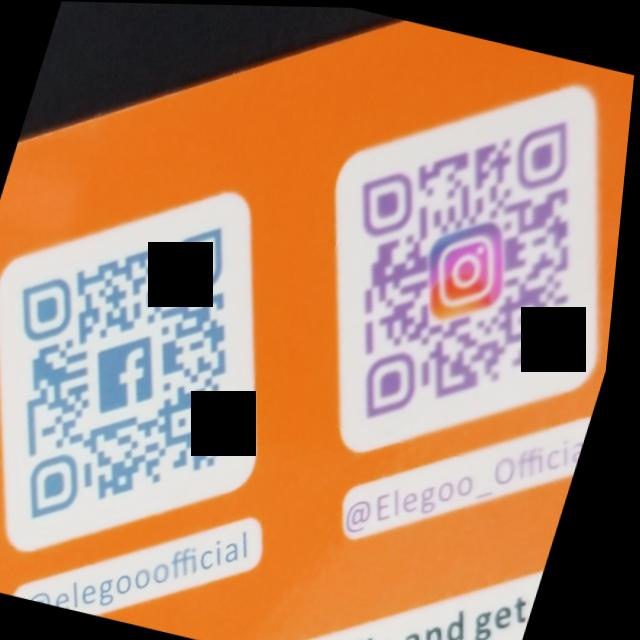QR_CODE: (287, 68, 635, 472), (0, 173, 308, 588)
